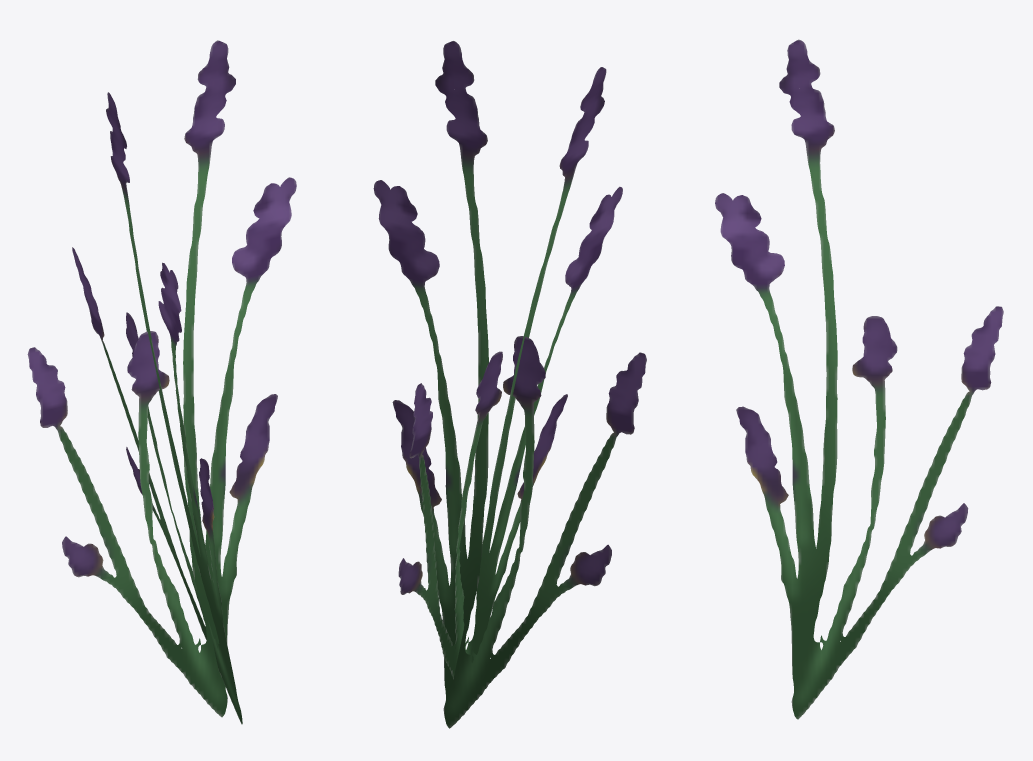
The model's file is Flower_04.fbx.
The picture shows the model from 3 angles, left to right: view 1: azimuth 30°, elevation 25°; view 2: azimuth 150°, elevation 25°; view 3: azimuth 270°, elevation 25°; orthographic projection. The views are drawn at different scales.
Visible parts, largest first — view 1: SM_StandingFlower_01; view 2: SM_StandingFlower_01; view 3: SM_StandingFlower_01.
Part boxes in pixels (box(x1,y1,x2,y2)): SM_StandingFlower_01: box(27, 40, 296, 724); SM_StandingFlower_01: box(373, 41, 646, 728); SM_StandingFlower_01: box(715, 39, 1003, 719).
Bounding box in the file's own units: 13.4 × 30.25 × 13.36.
